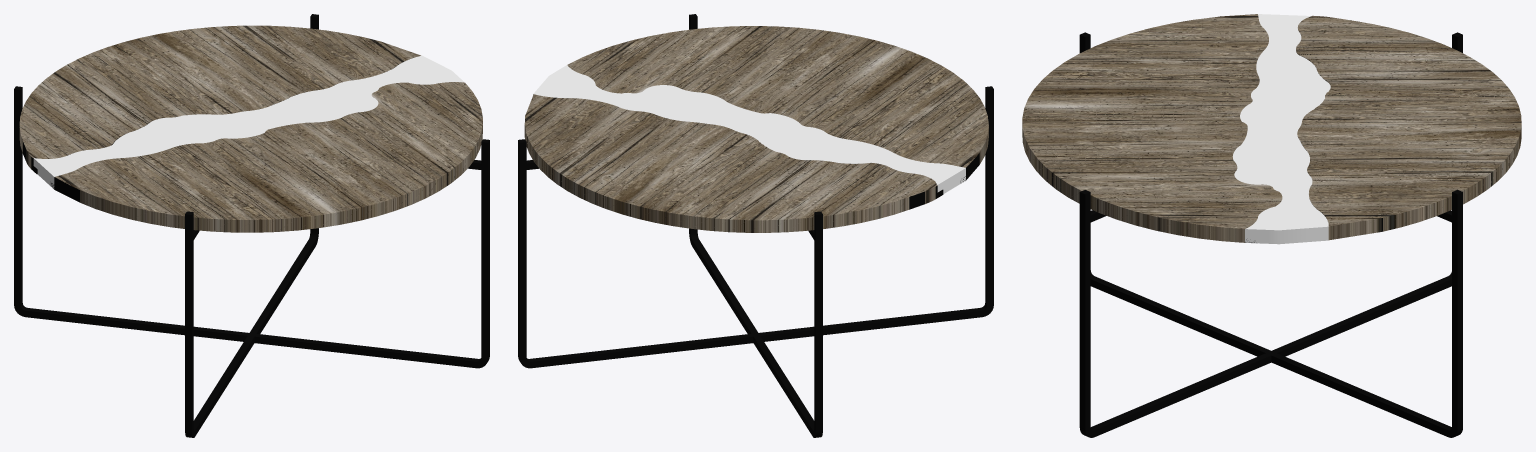
File: CoffeeTbl_v2.fbx
3 renders of one model, left to right at view 1: azimuth 30°, elevation 25°; view 2: azimuth 150°, elevation 25°; view 3: azimuth 270°, elevation 25°, orthographic. The views are drawn at different scales.
Visible parts, largest first — view 1: Group2, Group3, cof1, Group1; view 2: Group3, Group2, cof1, Group1; view 3: Group2, Group3, cof1, Group1.
Boxes of the visible parts, box(x1,y1,x2,y2) form: Group2: box(54, 82, 482, 232); Group3: box(19, 25, 420, 169); cof1: box(14, 14, 489, 437); Group1: box(33, 55, 464, 189); Group3: box(524, 94, 937, 232); Group2: box(567, 26, 988, 180); cof1: box(518, 14, 993, 437); Group1: box(533, 65, 965, 193); Group2: box(1022, 14, 1282, 242); Group3: box(1296, 15, 1521, 240); cof1: box(1079, 32, 1462, 437); Group1: box(1232, 14, 1330, 244).
Bounding box in the file's own units: 0.7893 × 0.42 × 0.7699.
Materials: 5 (1 with a texture image).
